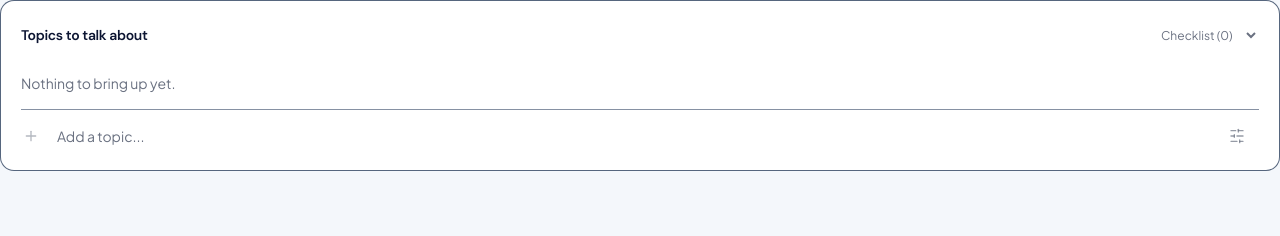
Test: topics panel › creates one-off normal-priority topics and keeps failed input visibly unsaved
Type "  Next trip  " into the field named "New topic".
click(634, 136); type("  Next trip  ")  # box top-left (57, 114), bottom-right (1211, 158)
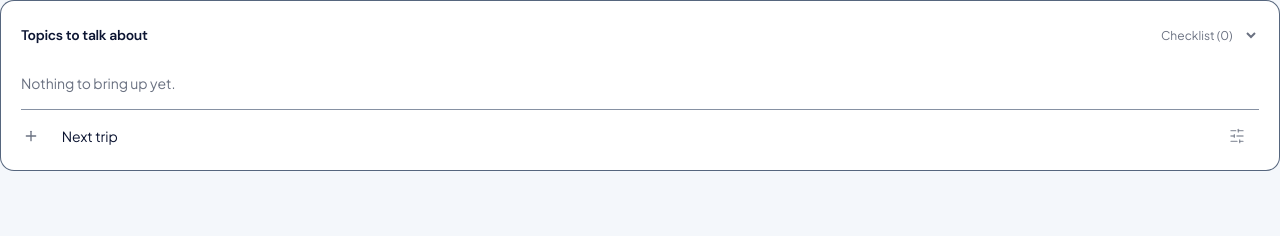
Click the button named "Add topic".
click(31, 136)  # box top-left (9, 114), bottom-right (53, 158)
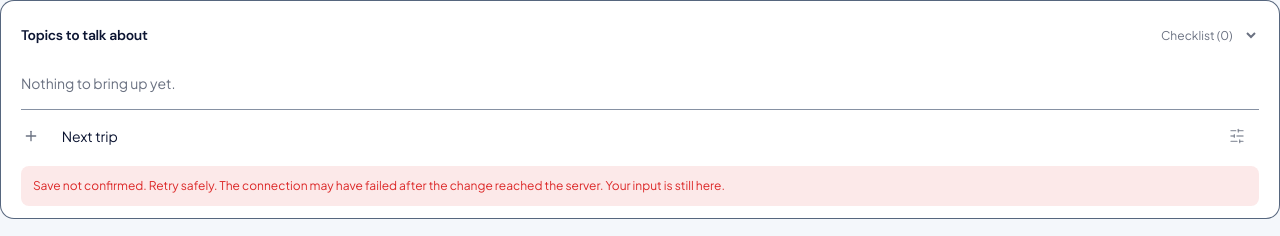
Check: the text "Topic added." is not shown
Check: the message is shown, box top-left (21, 166), bottom-right (1259, 206)
Click the button named "Add topic".
click(31, 136)  # box top-left (9, 114), bottom-right (53, 158)
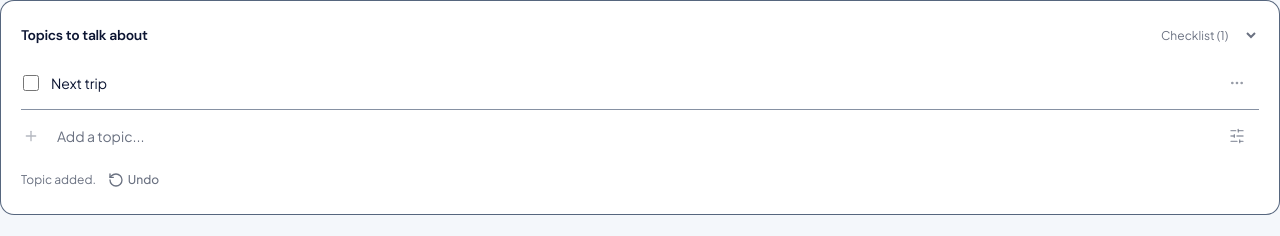
Check: the text "Topic added." is shown, box top-left (21, 172), bottom-right (96, 188)
Check: the field named "New topic" is empty, box top-left (57, 114), bottom-right (1211, 158)
